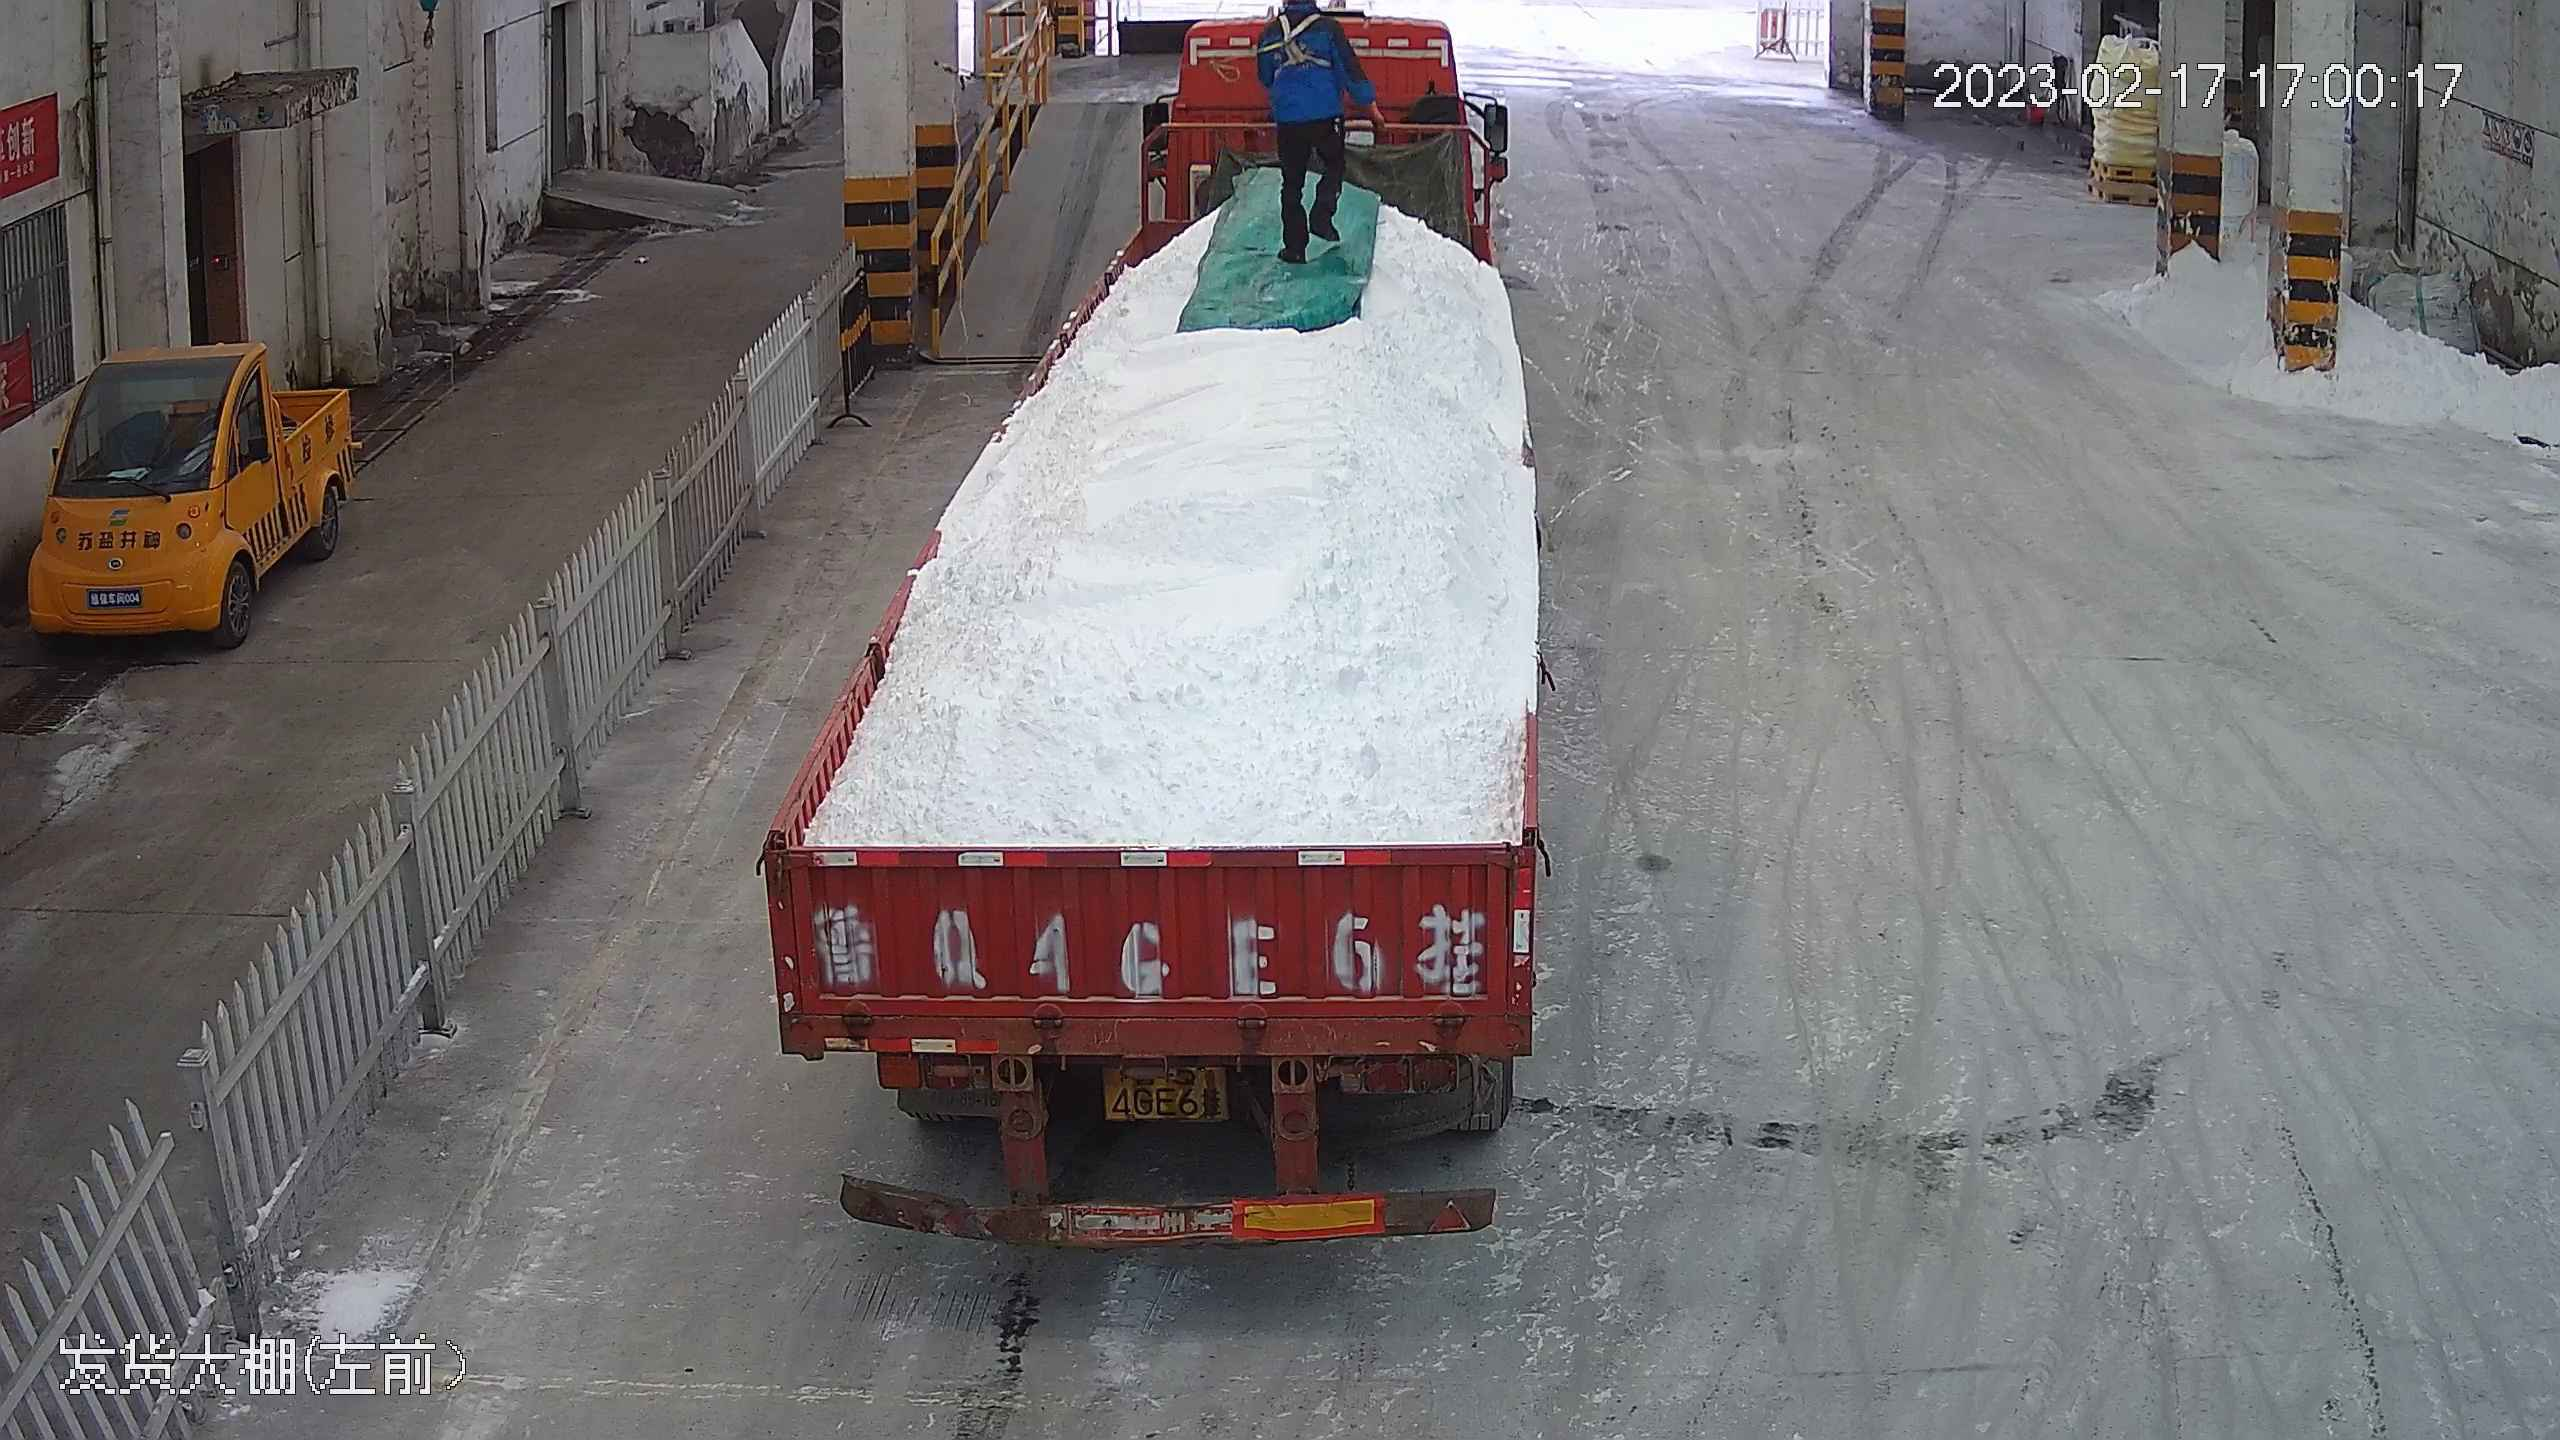belt: (1273, 13, 1334, 78)
people: (1257, 1, 1386, 266)
truck: (750, 16, 1550, 1246)
